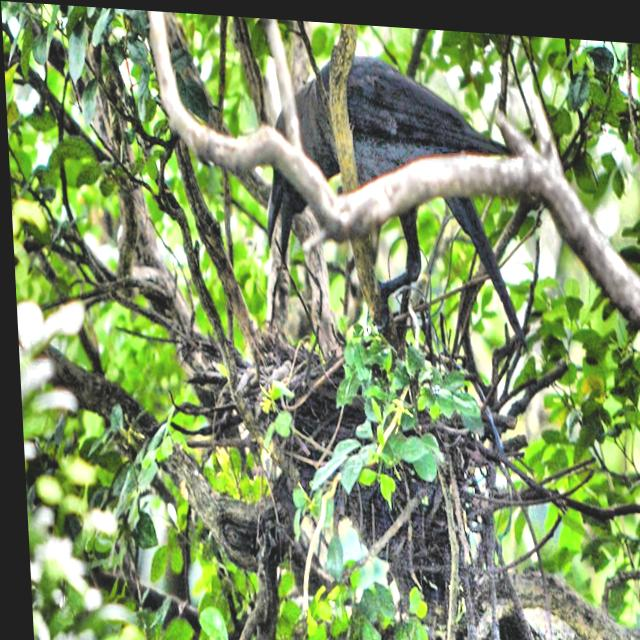crow: (259, 27, 529, 304)
